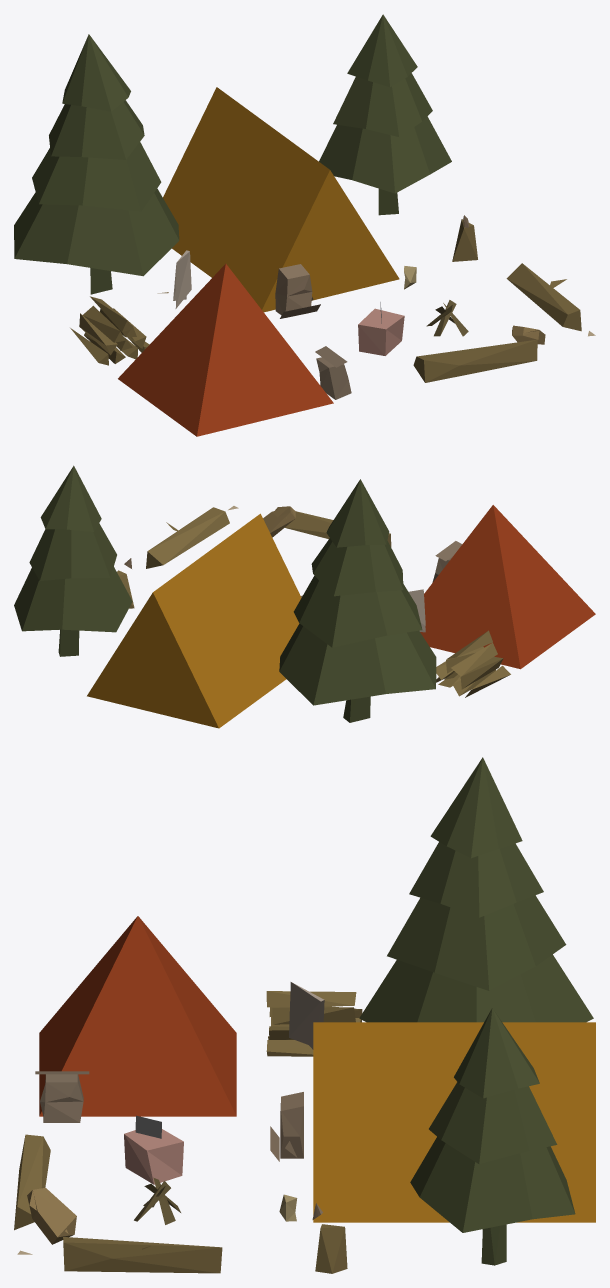
Rendered from campsite.lod2.glb.
The picture shows the model from 3 angles, top to bottom: view 1: azimuth 30°, elevation 25°; view 2: azimuth 150°, elevation 25°; view 3: azimuth 270°, elevation 25°; orthographic projection. The views are drawn at different scales.
Parts seen in each view (by area): view 1: Cylinder001_Material #124_0; view 2: Cylinder001_Material #124_0; view 3: Cylinder001_Material #124_0.
Part boxes in pixels (bbox=[...]): Cylinder001_Material #124_0: bbox=[14, 14, 595, 436]; Cylinder001_Material #124_0: bbox=[14, 465, 595, 728]; Cylinder001_Material #124_0: bbox=[14, 757, 595, 1273].
Size of the model in its own units: 11.67 by 6.65 by 10.91.
